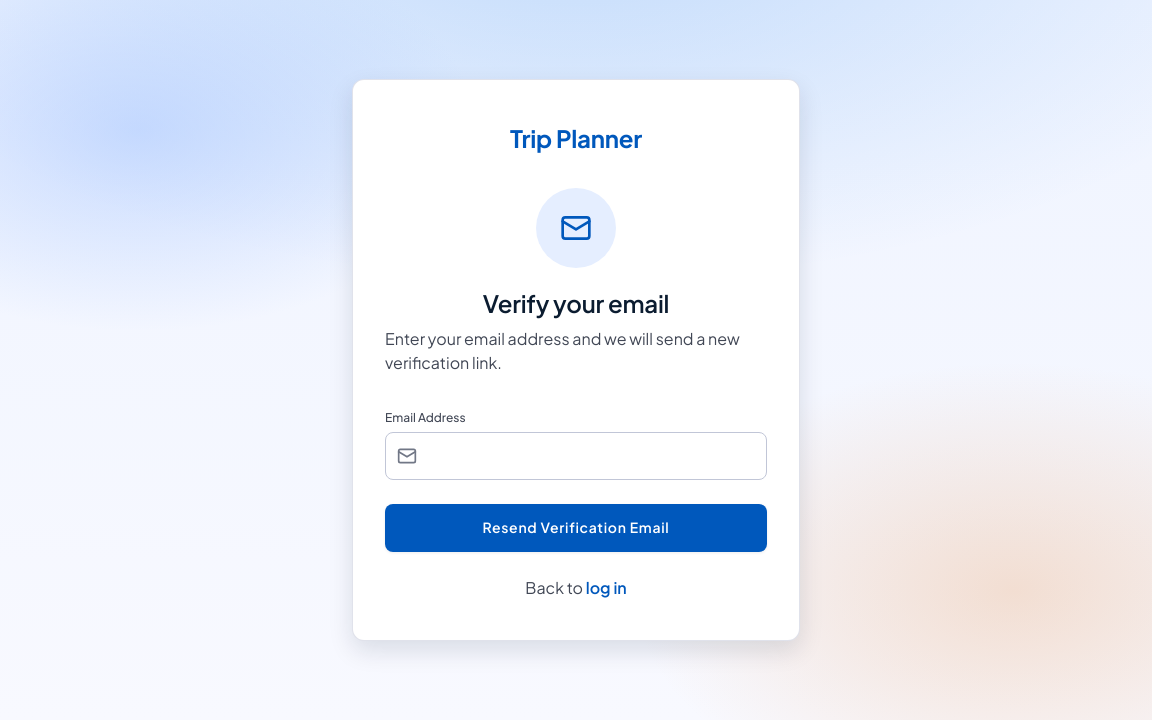
Test: VerifyEmailPage › shows the resend error above the intact form with the typed email preserved
In the field labelled "Email Address": (576, 456) [385, 432, 767, 480], type "user@example.com"
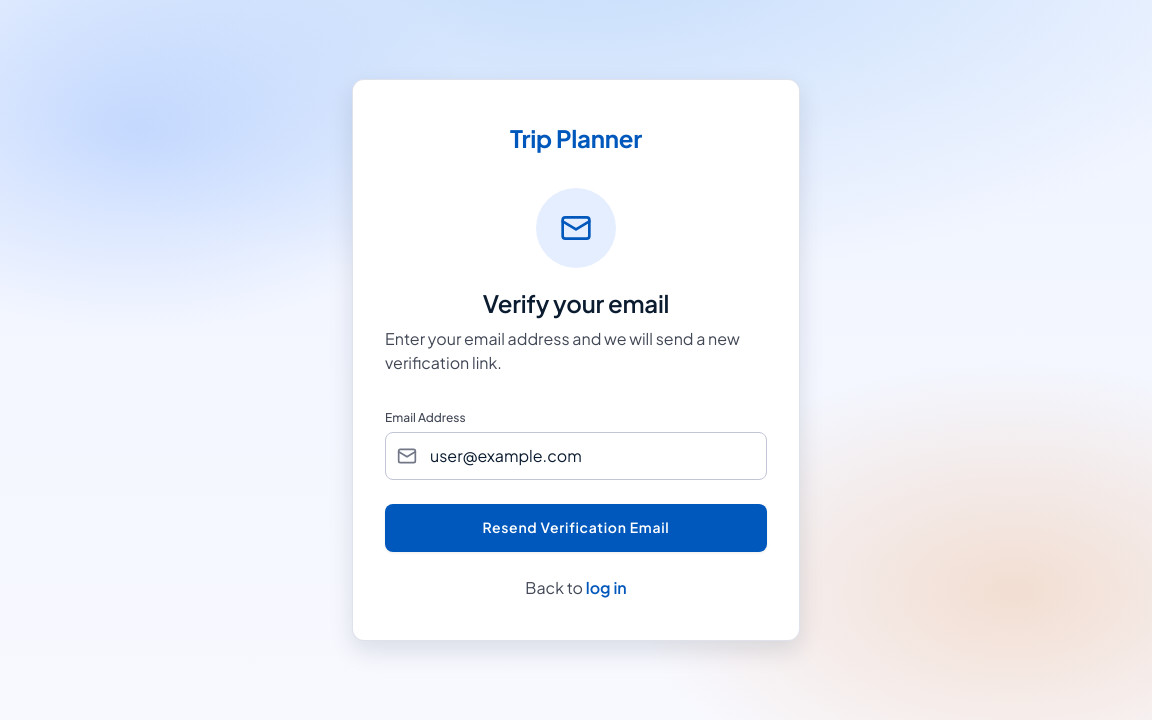
Click the button "Resend Verification Email": (576, 528) [385, 504, 767, 552]
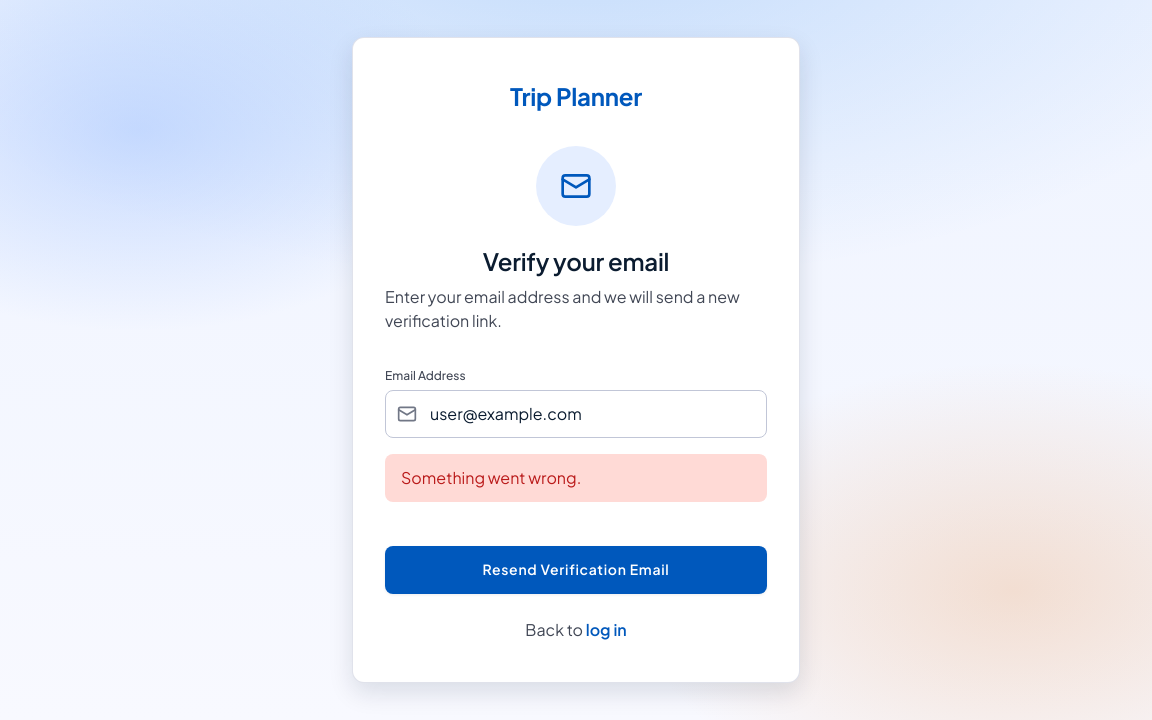
Expected: the button "Resend Verification Email" is shown, [385, 546, 767, 594]
Expected: the message reads "Something went wrong.", [401, 467, 581, 488]
